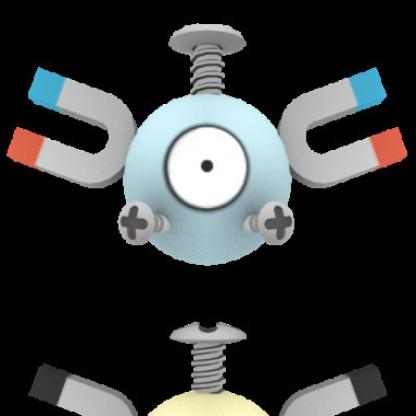Magnemite: (17, 25, 416, 268)
